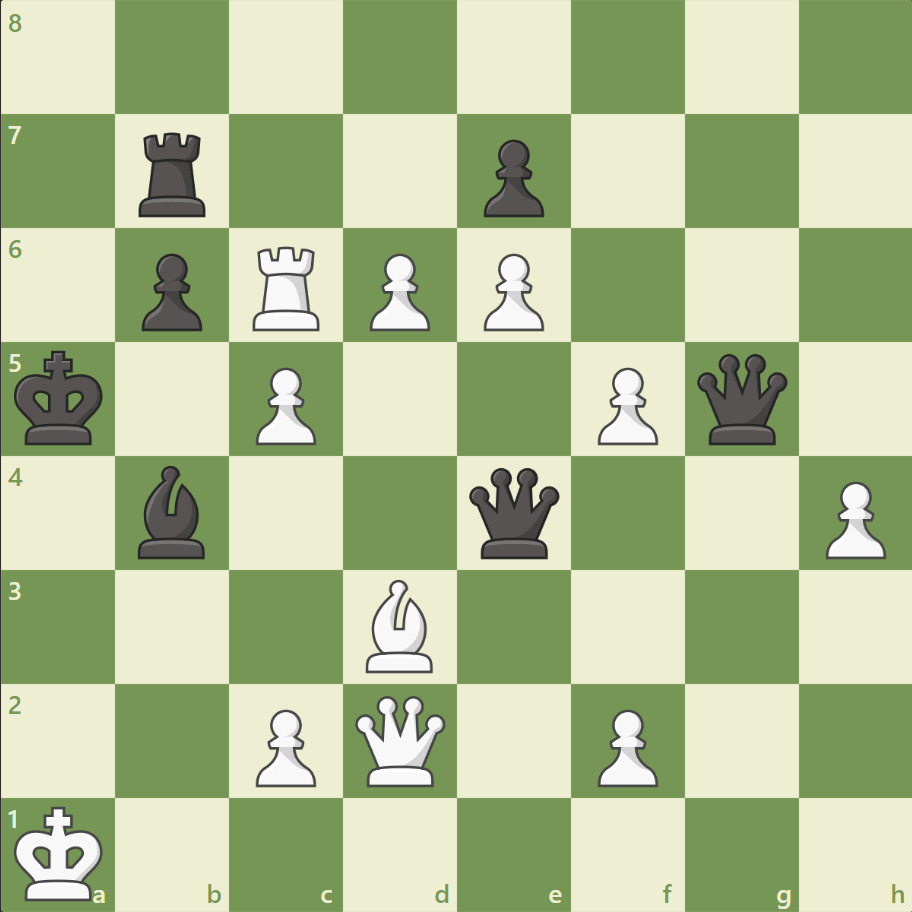B: (358, 574, 442, 676)
K: (11, 798, 111, 906)
P: (474, 246, 549, 337), (247, 359, 322, 450), (247, 700, 322, 791), (361, 246, 435, 337), (588, 359, 662, 450), (815, 473, 889, 564), (588, 700, 662, 791)
Q: (351, 690, 450, 789)
R: (246, 239, 329, 336)
b: (131, 460, 215, 563)
k: (11, 344, 111, 452)
p: (474, 132, 549, 223), (133, 246, 208, 337)
q: (691, 349, 790, 449), (464, 463, 563, 562)
r: (133, 125, 215, 222)
